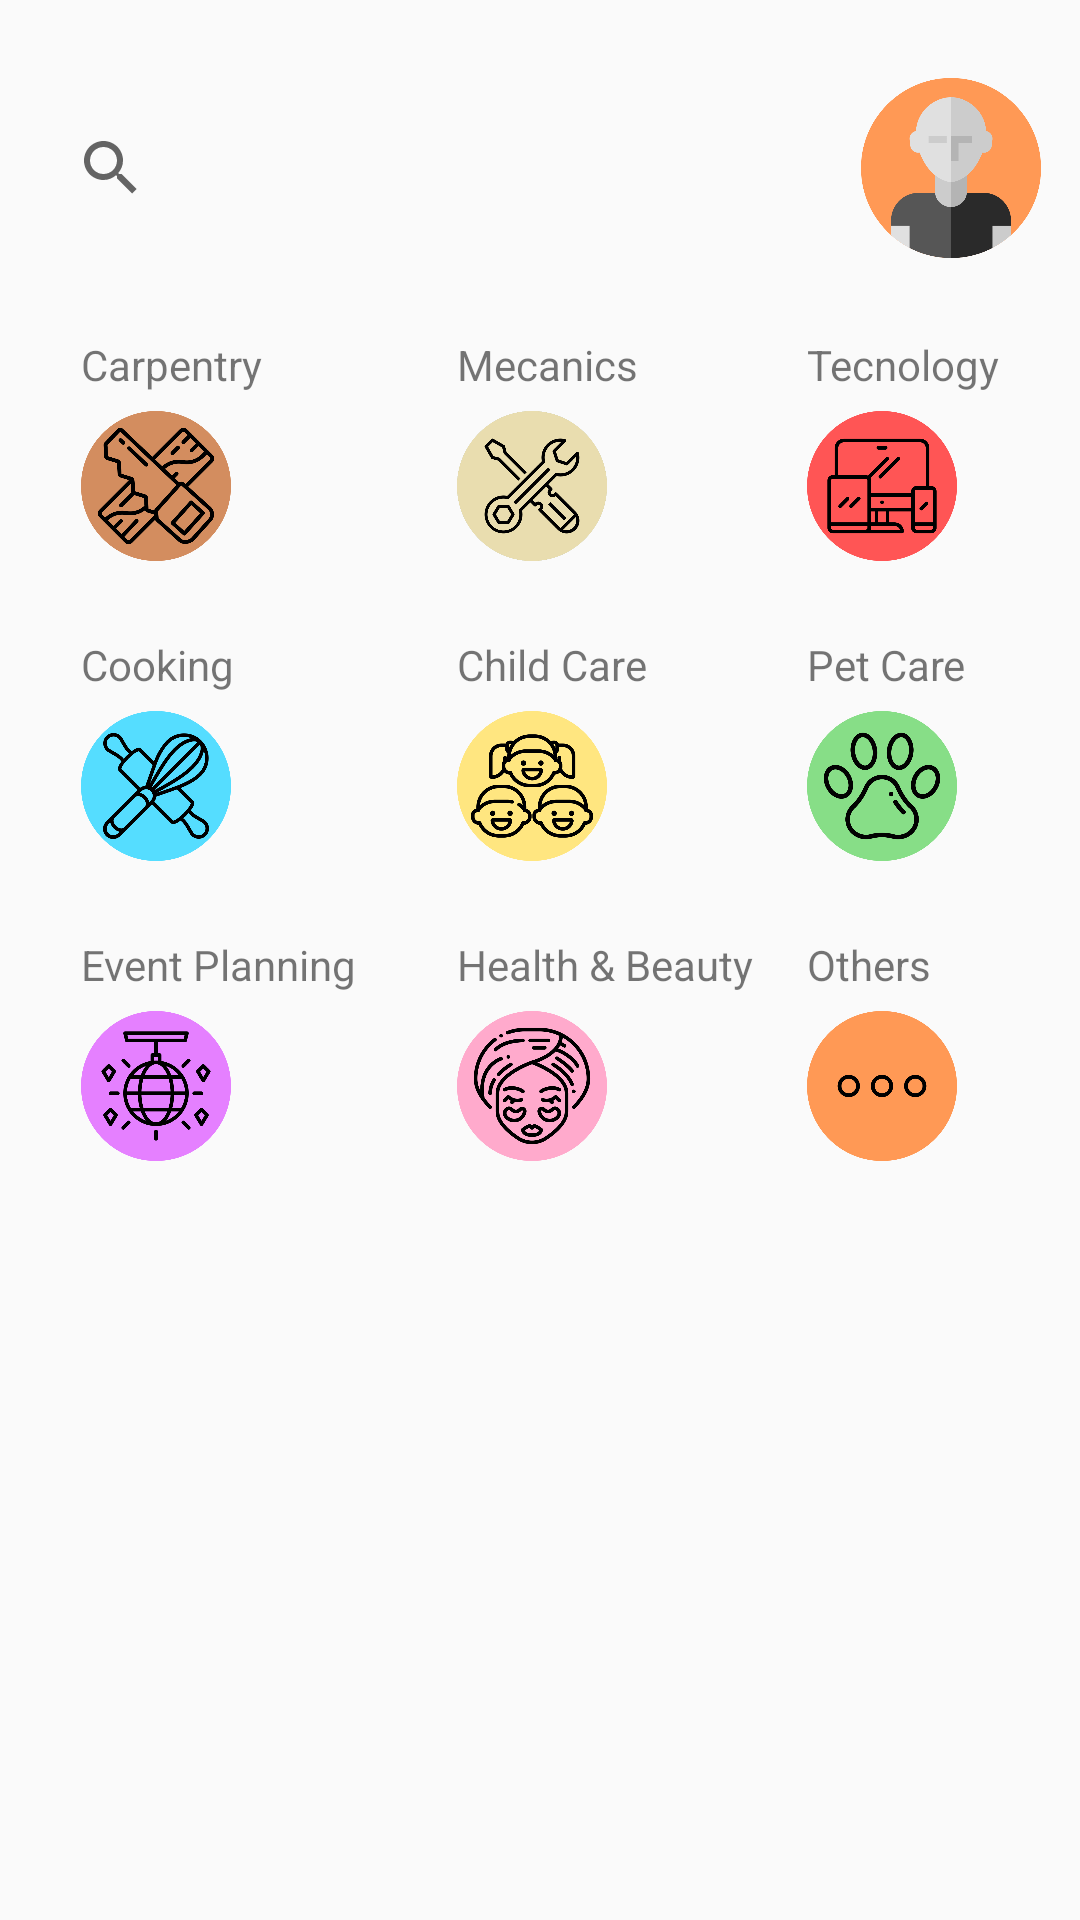

Point at icon controls on the screen. Image size 1080×1920, points as (x=x, y=y).
profile: (x=951, y=168)
